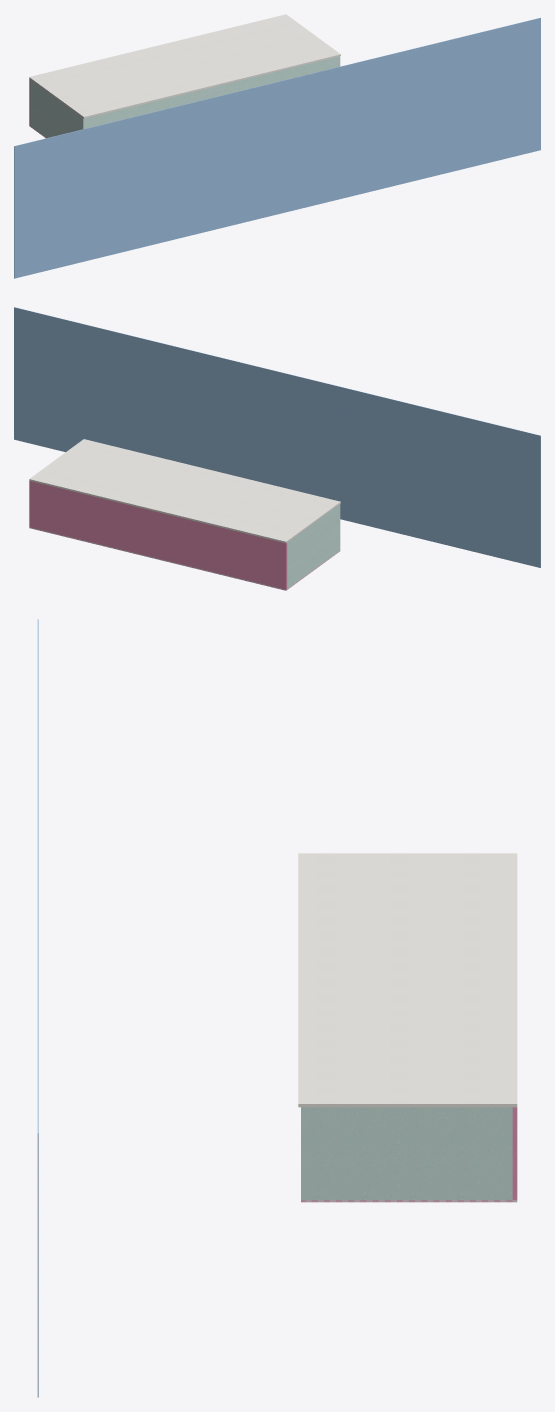
Rendered from interior.glb.
3 views of the same model, one above another, from view 1: azimuth 30°, elevation 25°; view 2: azimuth 150°, elevation 25°; view 3: azimuth 270°, elevation 25° (orthographic). The views are drawn at different scales.
Parts seen in each view (by area): view 1: Sky_Front, Ceiling, Store_IN_WallMain; view 2: Sky_Front, Ceiling, Store_IN_CandyPink, Store_IN_WallMain, House_Floor_Candy; view 3: Ceiling, Store_IN_WallMain, Sky_Front.
Boxes of the visible parts, x1,y1,x2,y2 form: Sky_Front: [14, 17, 540, 278]; Ceiling: [29, 14, 340, 118]; Store_IN_WallMain: [30, 56, 340, 137]; Sky_Front: [14, 307, 540, 567]; Ceiling: [29, 439, 340, 543]; Store_IN_CandyPink: [29, 481, 287, 589]; Store_IN_WallMain: [287, 504, 340, 588]; House_Floor_Candy: [29, 527, 340, 590]; Ceiling: [298, 853, 517, 1107]; Store_IN_WallMain: [301, 1107, 512, 1199]; Sky_Front: [37, 619, 38, 1397].
Bounding box in the file's own units: 50 × 12 × 19.72.
30 materials, 28 textured.
